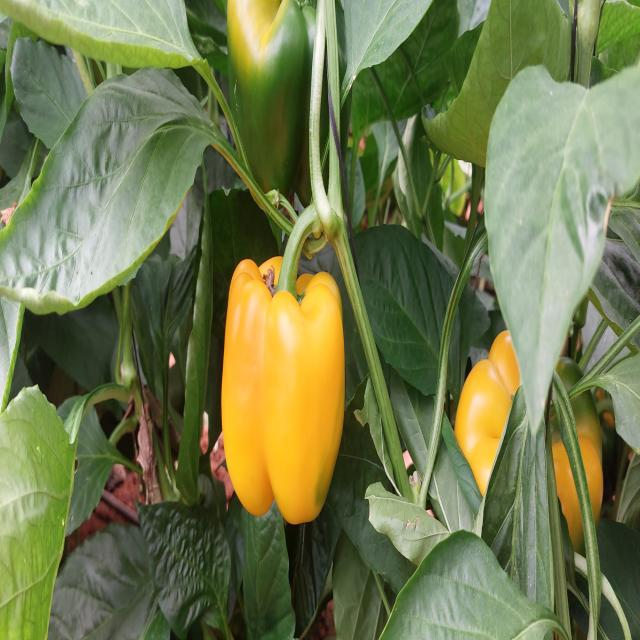GreenishYellow--Can-be-Harvested: (225, 11, 338, 172)
Yellow-Ready-to-Harvest: (447, 284, 614, 579), (213, 229, 354, 551)
